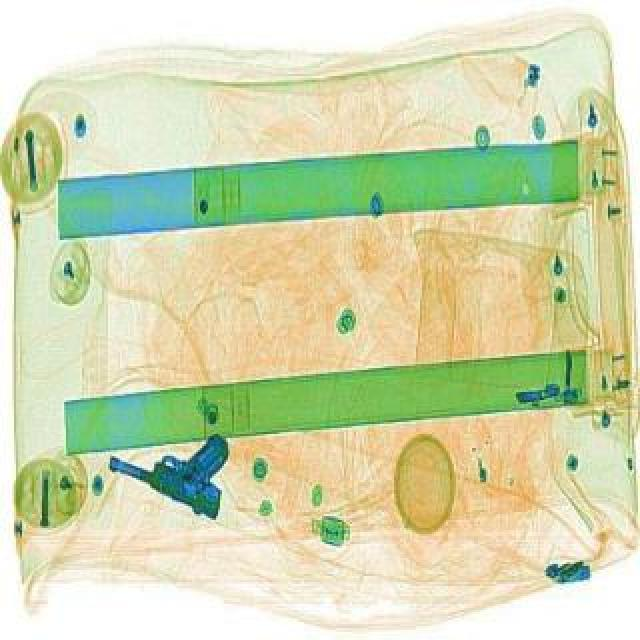gun: (102, 416, 246, 520)
